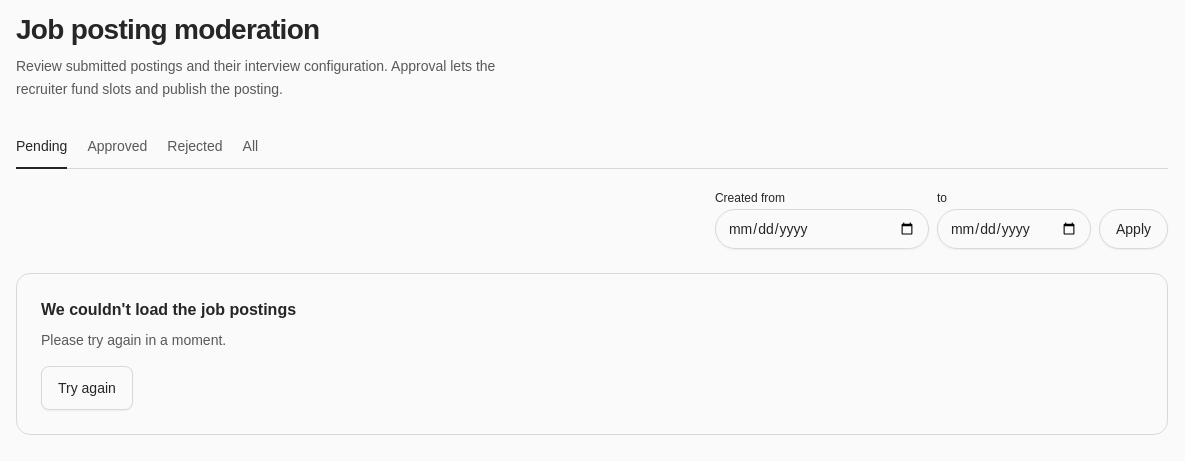
ModerationQueue › shows an error with a working retry
The width and height of the screenshot is (1185, 461).
Check: the message shows "couldn't load the job postings", box [41,300,296,318]
Click the button "Try again" at (87, 388), box [41,366,133,410]
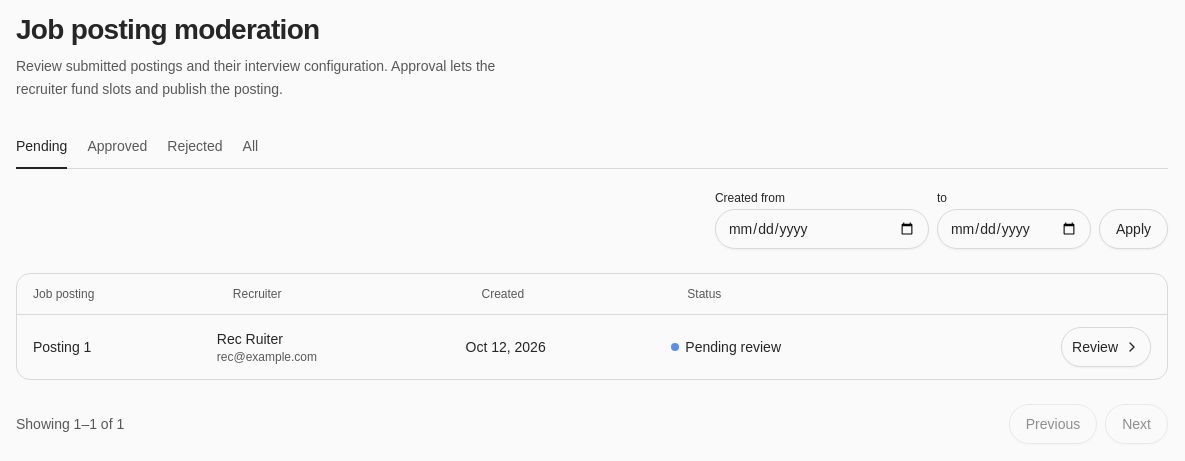
Check: the text "Posting 1" is shown, box [17,314,217,378]
